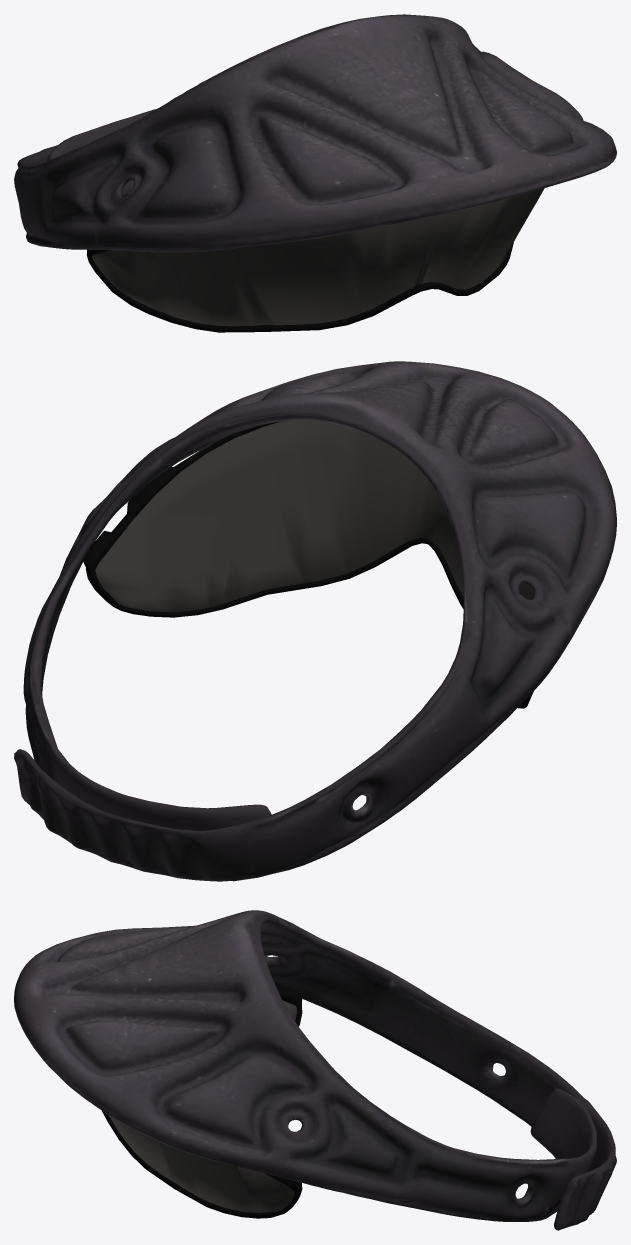
File: visor.glb
3 views of the same model, one above another, from view 1: azimuth 30°, elevation 25°; view 2: azimuth 150°, elevation 25°; view 3: azimuth 270°, elevation 25° (orthographic). The views are drawn at different scales.
Visible parts, largest first — view 1: Visor_Scan_v03_F1_Visor_Scan_v03_F10_0, Visor_Scan_v03_15M2_4_Visor_Glass_0, Visor_Scan_v03_15M2_5_Visor_Plastic_0; view 2: Visor_Scan_v03_F1_Visor_Scan_v03_F10_0, Visor_Scan_v03_15M2_4_Visor_Glass_0, Visor_Scan_v03_15M2_5_Visor_Plastic_0; view 3: Visor_Scan_v03_F1_Visor_Scan_v03_F10_0, Visor_Scan_v03_15M2_4_Visor_Glass_0, Visor_Scan_v03_15M2_5_Visor_Plastic_0.
Boxes of the visible parts, x1,y1,x2,y2 form: Visor_Scan_v03_F1_Visor_Scan_v03_F10_0: (14, 14, 616, 252); Visor_Scan_v03_15M2_4_Visor_Glass_0: (92, 188, 544, 326); Visor_Scan_v03_15M2_5_Visor_Plastic_0: (86, 242, 513, 332); Visor_Scan_v03_F1_Visor_Scan_v03_F10_0: (14, 361, 616, 881); Visor_Scan_v03_15M2_4_Visor_Glass_0: (95, 419, 533, 612); Visor_Scan_v03_15M2_5_Visor_Plastic_0: (83, 421, 533, 708); Visor_Scan_v03_F1_Visor_Scan_v03_F10_0: (14, 910, 616, 1230); Visor_Scan_v03_15M2_4_Visor_Glass_0: (109, 1000, 296, 1212); Visor_Scan_v03_15M2_5_Visor_Plastic_0: (102, 982, 302, 1218).
Size of the model in its own units: 20.49 by 13.01 by 26.57.
3 materials, 1 textured.
